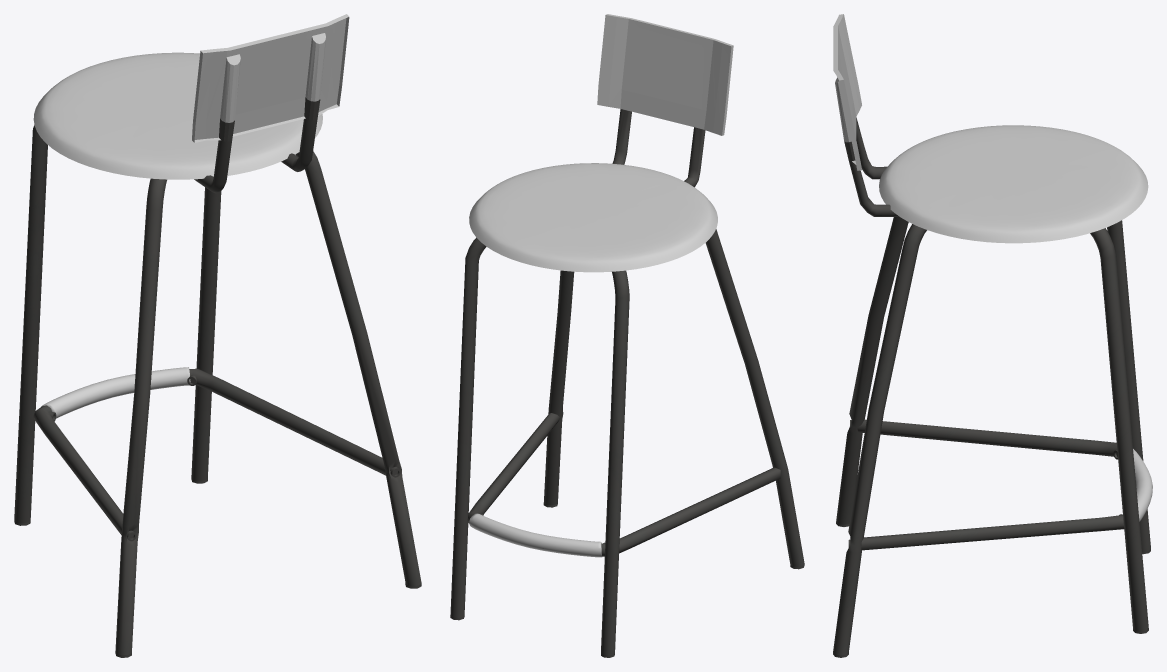
File: bar-stool.obj
3 views of the same model, side by side, from view 1: azimuth 30°, elevation 25°; view 2: azimuth 150°, elevation 25°; view 3: azimuth 270°, elevation 25° (orthographic). The views are drawn at different scales.
Parts seen in each view (by area): view 1: bar-stool; view 2: bar-stool; view 3: bar-stool.
Part boxes in pixels (x1,y1,x2,y2): bar-stool: (14,14,421,657); bar-stool: (450,14,804,657); bar-stool: (833,14,1152,657).
Bounding box in the file's own units: 0.7094 × 1.31 × 0.6974.
